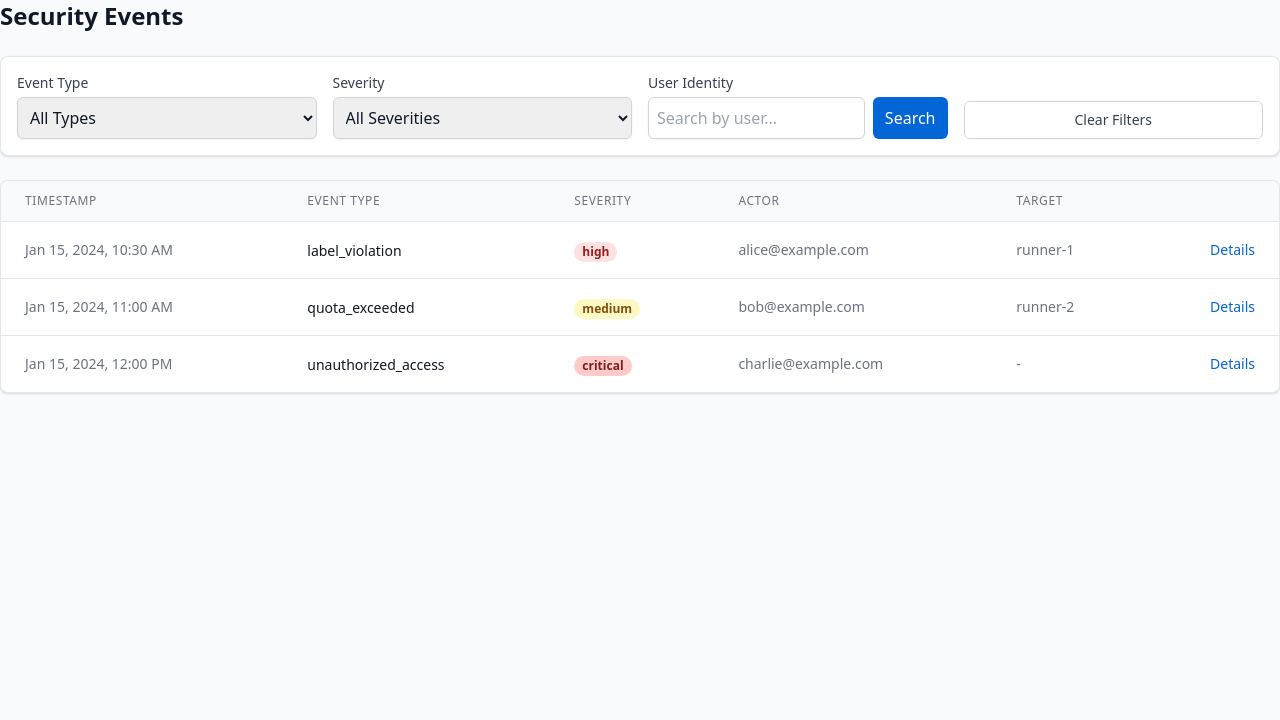
Scenario: SecurityEvents › opens detail modal when Details button is clicked
Click the button "Details" in the row of "Jan 15, 2024, 10:30 AM" at (1232, 250), box [1210,240,1255,260]
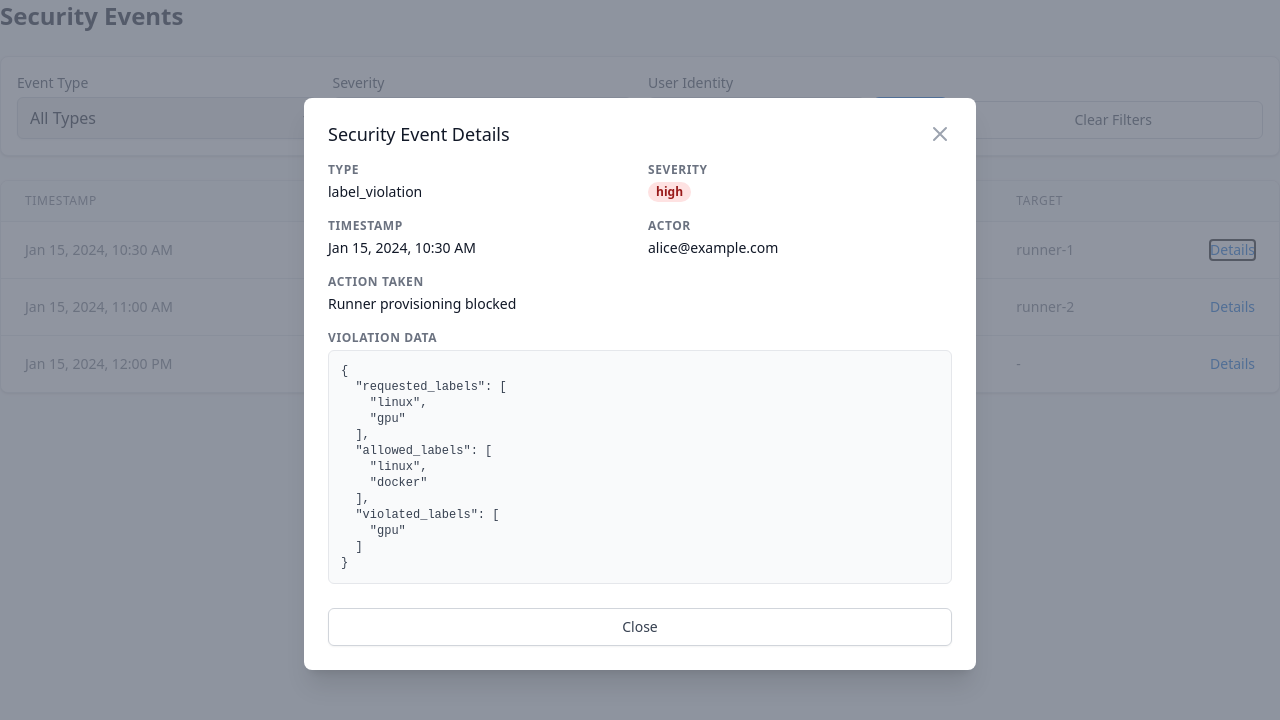
Expected: the heading "Security Event Details" is shown, [328,122,510,146]
Expected: the text "Runner provisioning blocked" is shown, [328,294,516,313]
Expected: the text "\"requested_labels\"" is shown, [341,364,507,570]
